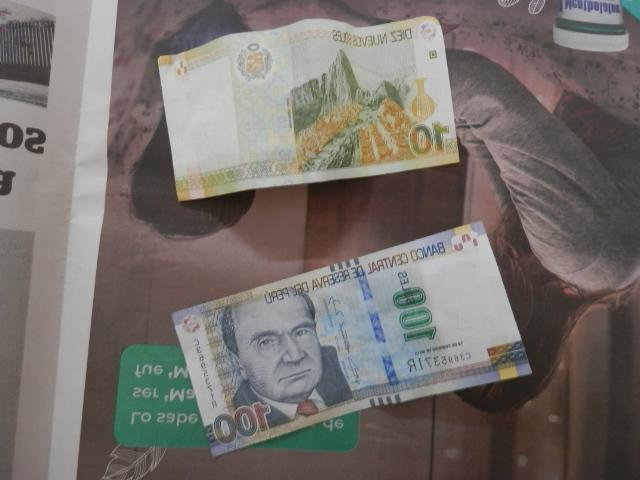B10: (159, 19, 459, 196)
B100: (172, 222, 532, 455)
